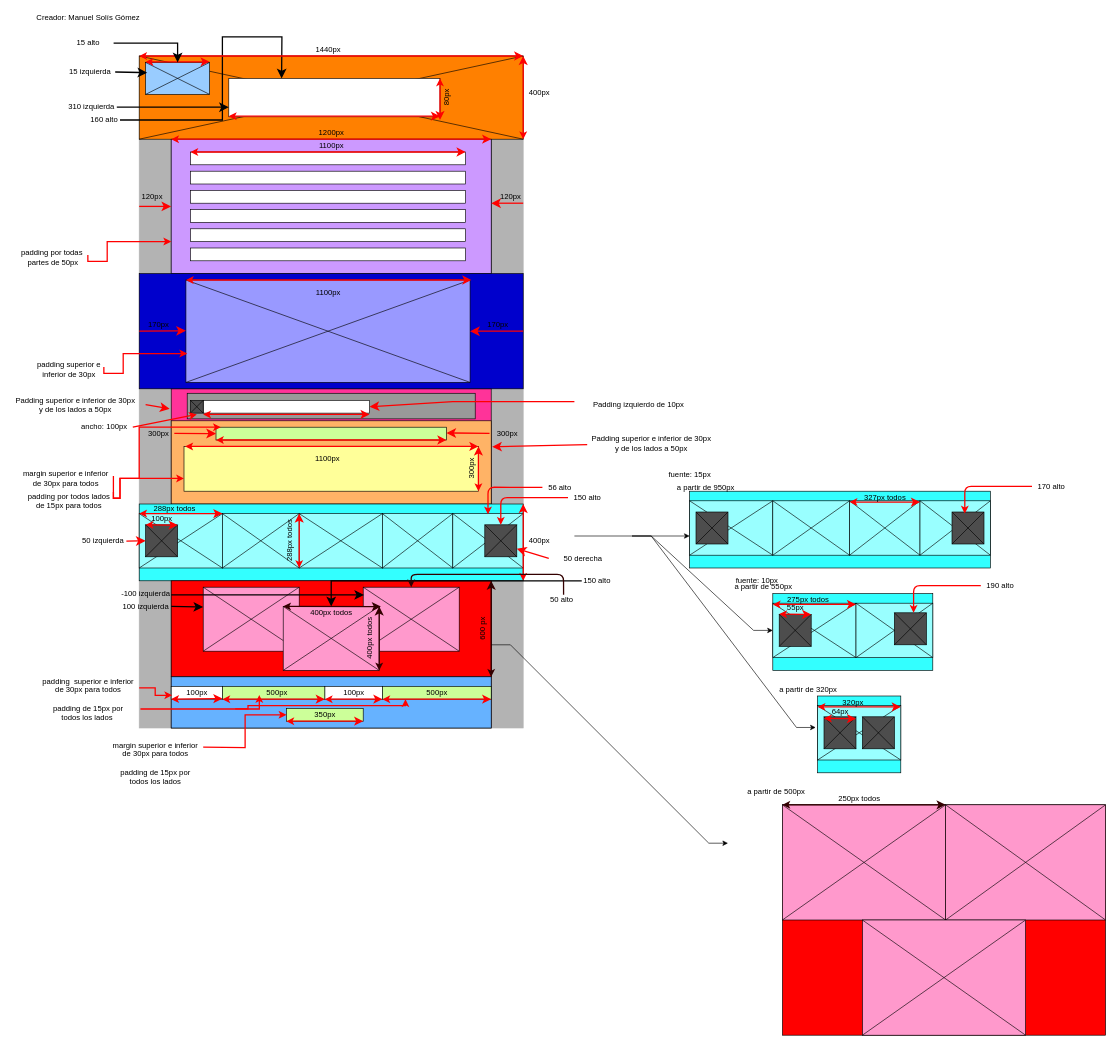
The diagram is 1117 pixels wide and 1047 high, and some of its shapes have lost their labels. The box of each missing label's shape, as (x1, y1, x2, y2) in pixels:
200px: (145, 62, 210, 94)
494px: (203, 400, 370, 413)
600px: (215, 427, 446, 440)
820px: (228, 78, 440, 117)
